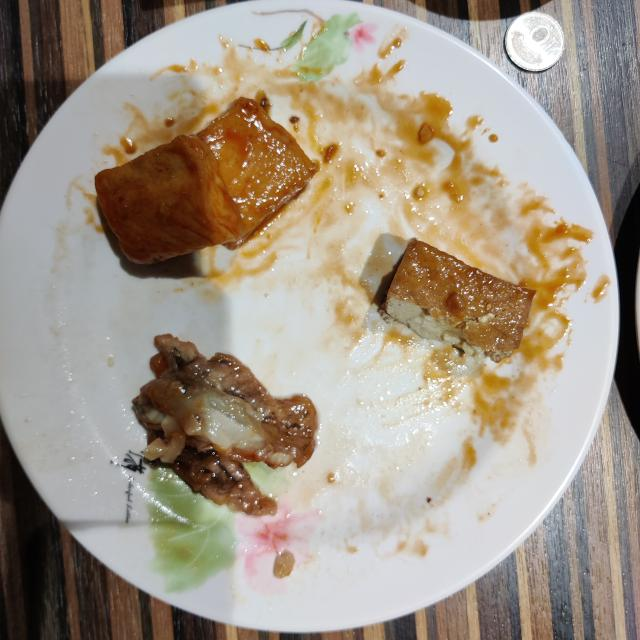Kabayaki sea bream fillet: (132, 334, 318, 516)
coin: (505, 12, 565, 71)
creamy tofu: (95, 98, 318, 264)
egg tofu: (385, 239, 535, 361)
